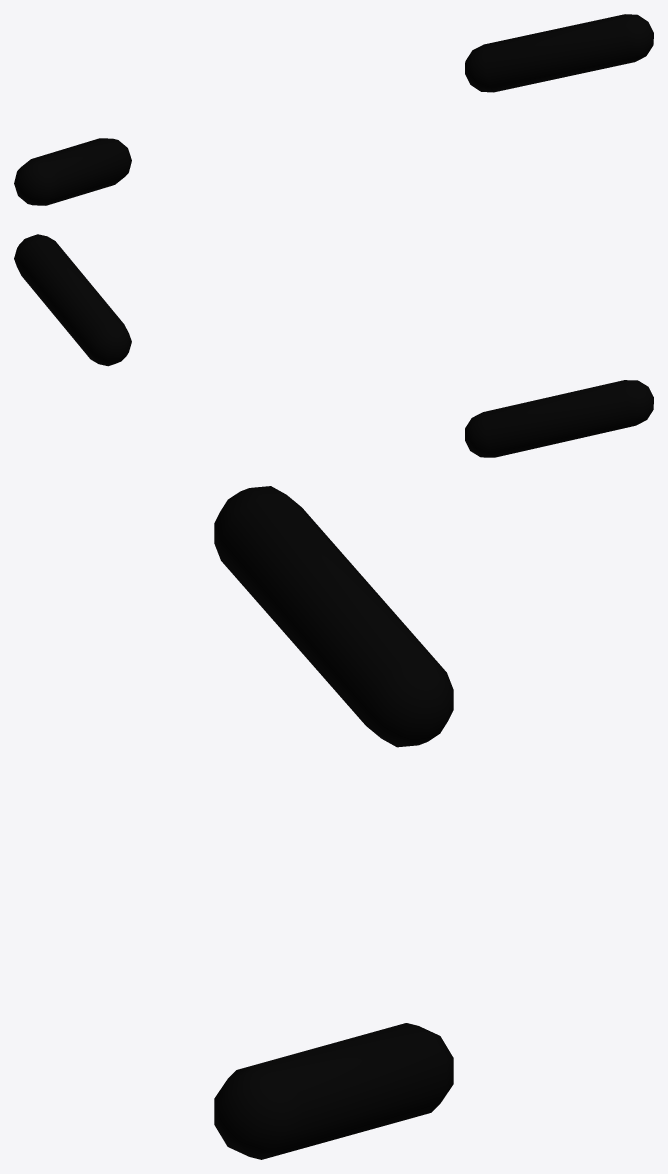
The model's file is Eyebrows_MM_Angry.fbx.
3 renders of one model, top to bottom at view 1: azimuth 30°, elevation 25°; view 2: azimuth 150°, elevation 25°; view 3: azimuth 270°, elevation 25°, orthographic. The views are drawn at different scales.
Parts seen in each view (by area): view 1: Eye_Open; view 2: Eye_Open; view 3: Eye_Open.
Part boxes in pixels (x1,y1,x2,y2): Eye_Open: (14, 14, 653, 205); Eye_Open: (14, 234, 653, 457); Eye_Open: (214, 486, 453, 1159).
Size of the model in its own units: 14.39 by 1.61 by 2.36.
